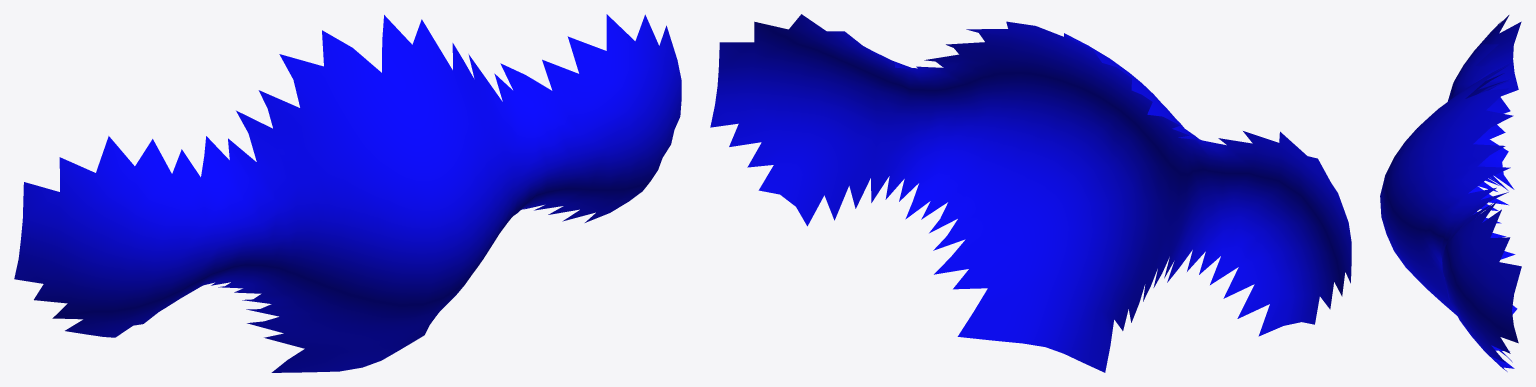
Rendered from blob2_opt_final5.obj.
3 views of the same model, side by side, from view 1: azimuth 30°, elevation 25°; view 2: azimuth 150°, elevation 25°; view 3: azimuth 270°, elevation 25° (orthographic). The views are drawn at different scales.
Size of the model in its own units: 39.79 by 19.31 by 9.4.
